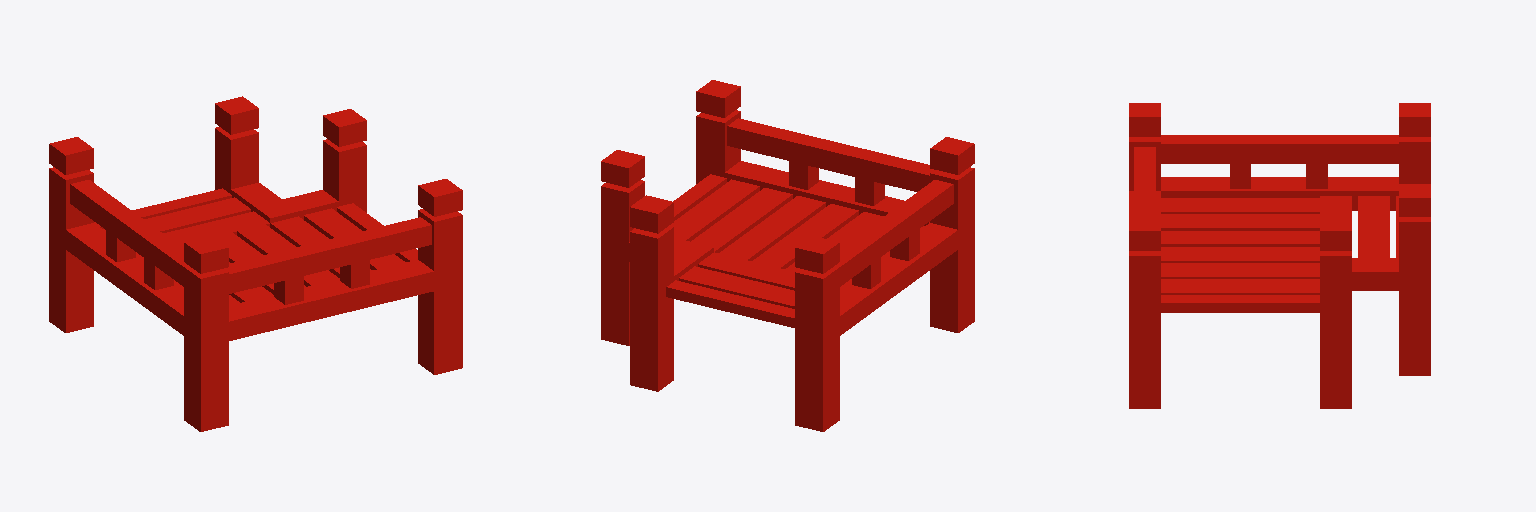
3 views of the same model, side by side, from view 1: azimuth 30°, elevation 25°; view 2: azimuth 150°, elevation 25°; view 3: azimuth 270°, elevation 25° (orthographic).
Visible parts, largest first — view 1: cube; view 2: cube; view 3: cube.
Part boxes in pixels (left/top/right/bottom): cube: left=49, top=96, right=462, bottom=431; cube: left=601, top=80, right=974, bottom=431; cube: left=1129, top=103, right=1430, bottom=408.
Size of the model in its own units: 0.8672 by 0.5625 by 0.8672.
1 materials, 1 textured.